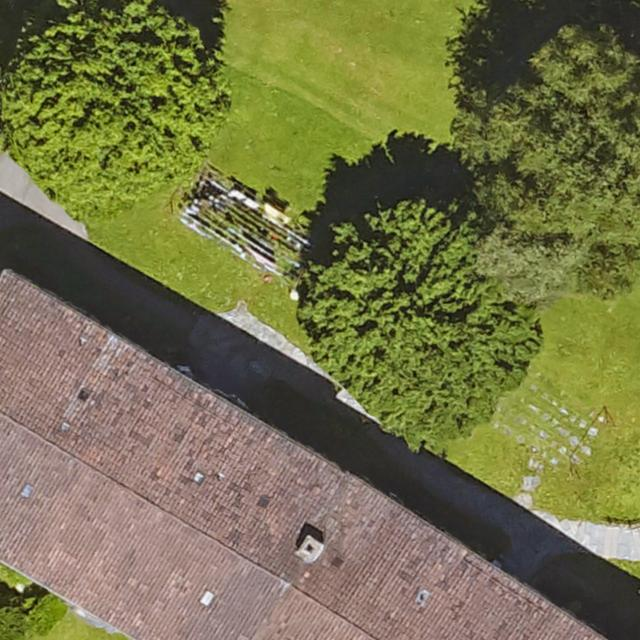tree: (306, 209, 529, 424), (463, 28, 640, 291), (0, 1, 225, 189), (0, 604, 27, 640)
